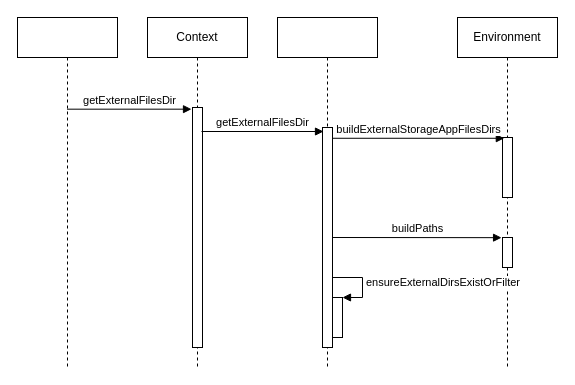
Image size: 575x385. Some labels were removed from this diagram. The shapes that lost their labels are listed below. From the top down, each one's box as (x1, y1, x2, y2) in pixels, then its label:
(16, 16, 118, 368): App
(276, 16, 378, 368): ContextImpl
